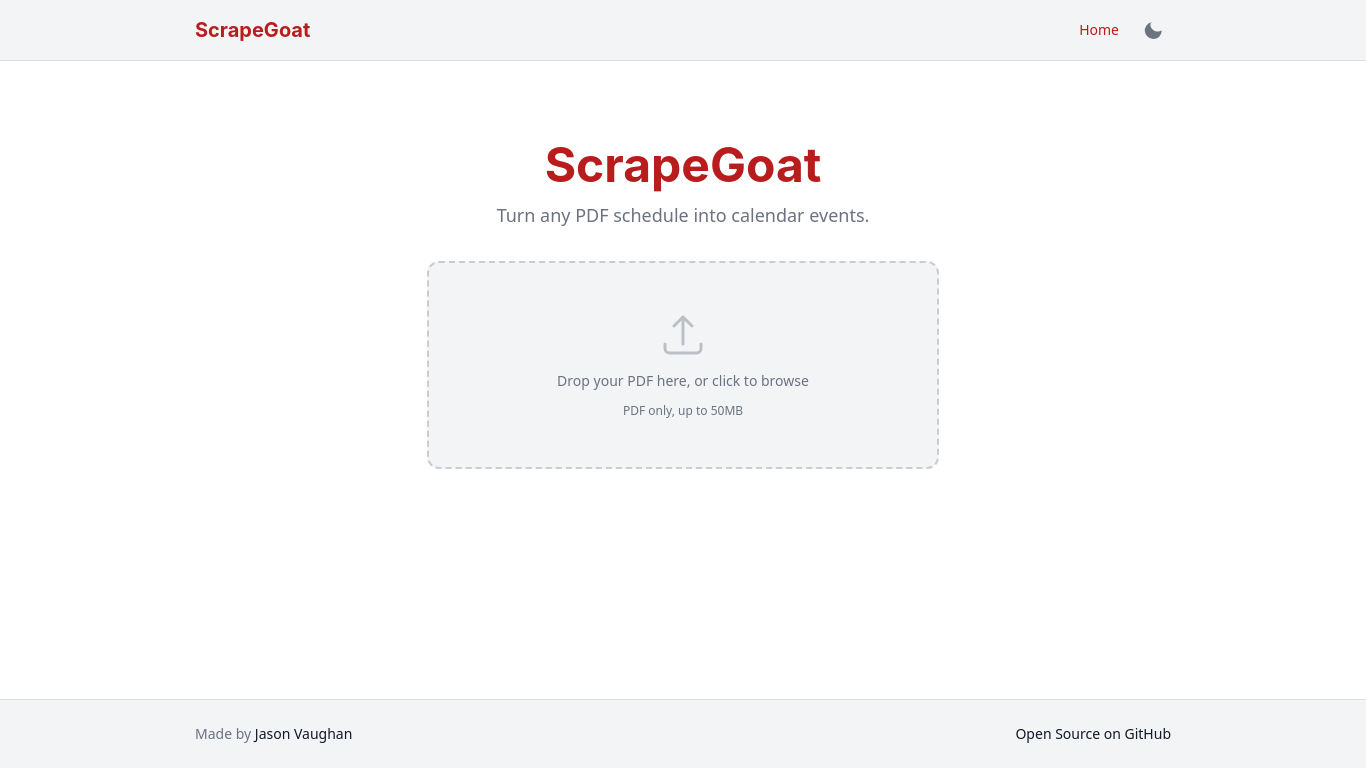
it: Dark mode toggle › clicking toggle adds dark class and updates button label
Click the button named "switch to dark mode": point(1153, 30) [1135,12,1171,48]
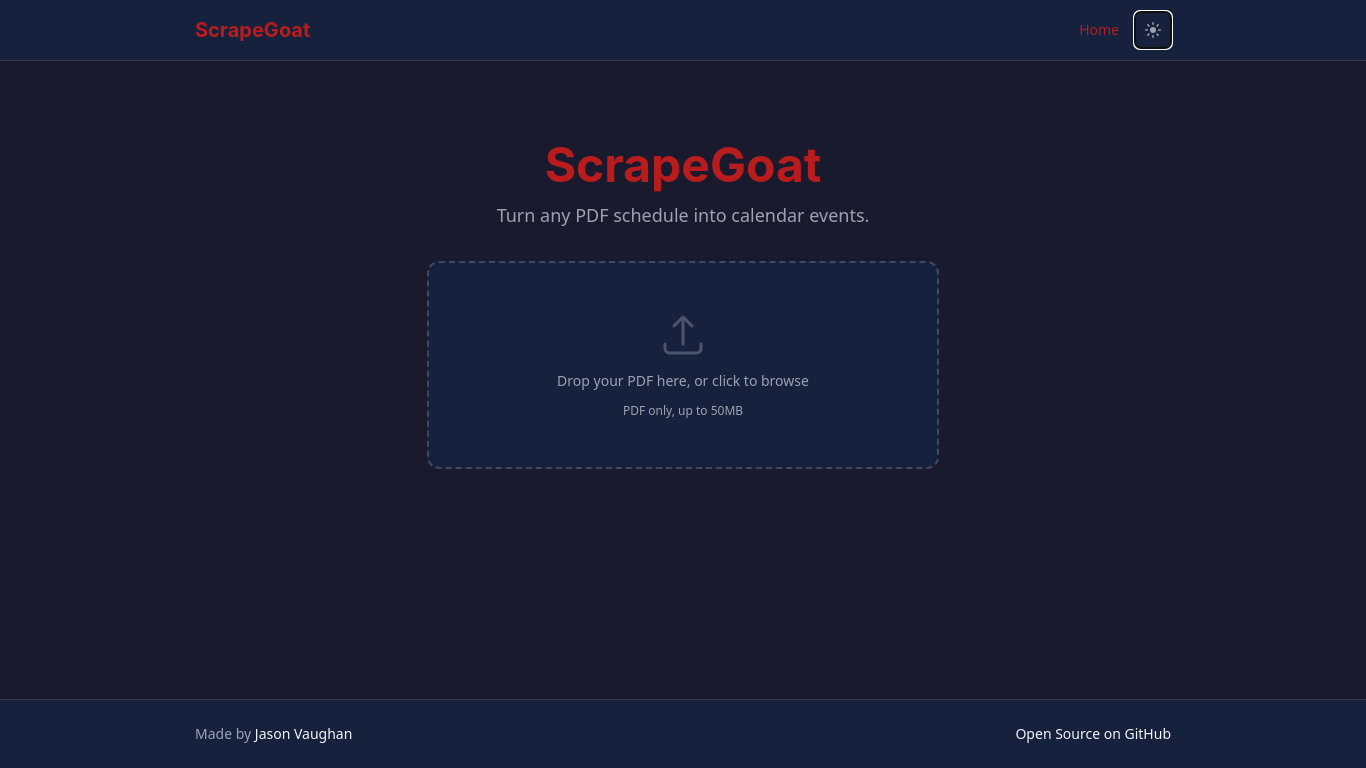
Now the button named "switch to light mode" is shown, box [1135,12,1171,48]
